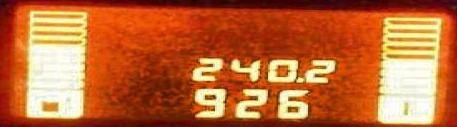-: (293, 76, 303, 82)
0: (264, 58, 298, 81)
2: (233, 88, 268, 117), (302, 58, 336, 82), (189, 57, 221, 81)
4: (228, 58, 259, 82)
6: (275, 88, 310, 119)
9: (191, 87, 226, 117)
